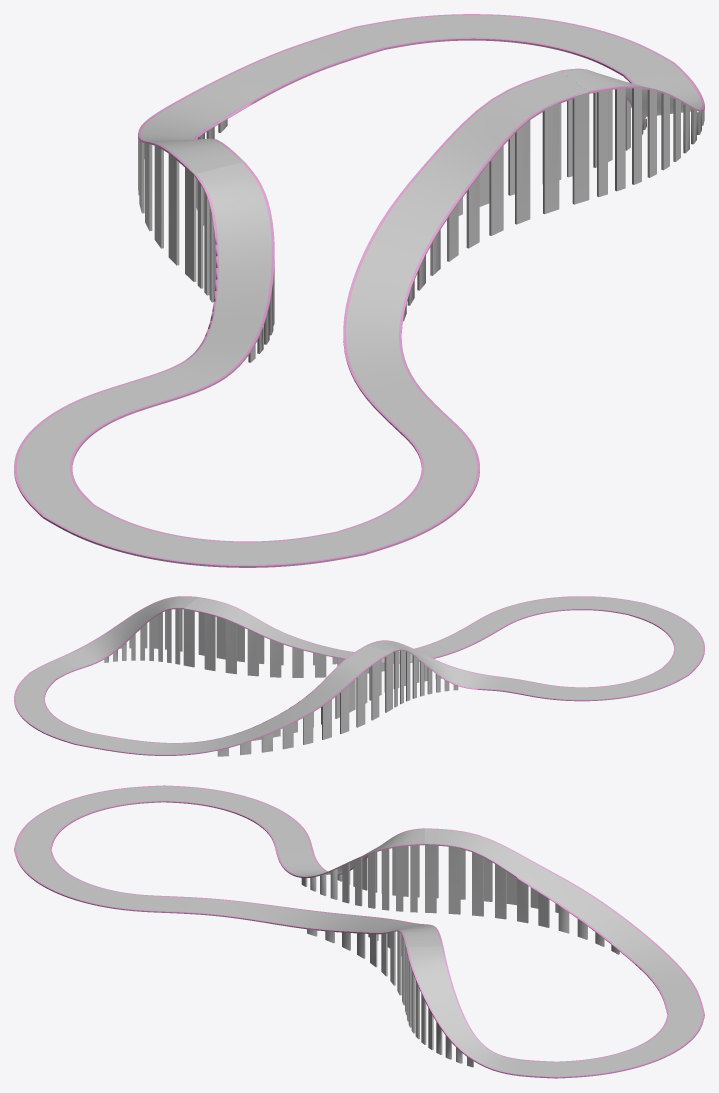
Rendered from PistaCompleja.obj.
The picture shows the model from 3 angles, top to bottom: view 1: azimuth 30°, elevation 25°; view 2: azimuth 150°, elevation 25°; view 3: azimuth 270°, elevation 25°; orthographic projection. The views are drawn at different scales.
Parts seen in each view (by area): view 1: WindyTrack; view 2: WindyTrack; view 3: WindyTrack.
Part boxes in pixels (bbox=[...]): WindyTrack: bbox=[14, 14, 704, 567]; WindyTrack: bbox=[14, 596, 704, 756]; WindyTrack: bbox=[14, 785, 704, 1078].
Bounding box in the file's own units: 111 × 12.28 × 111.
